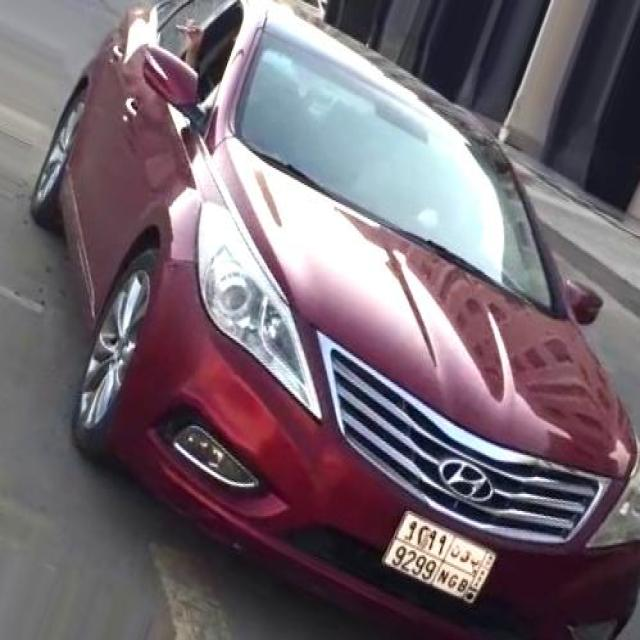Car-plate: (376, 495, 506, 616)
